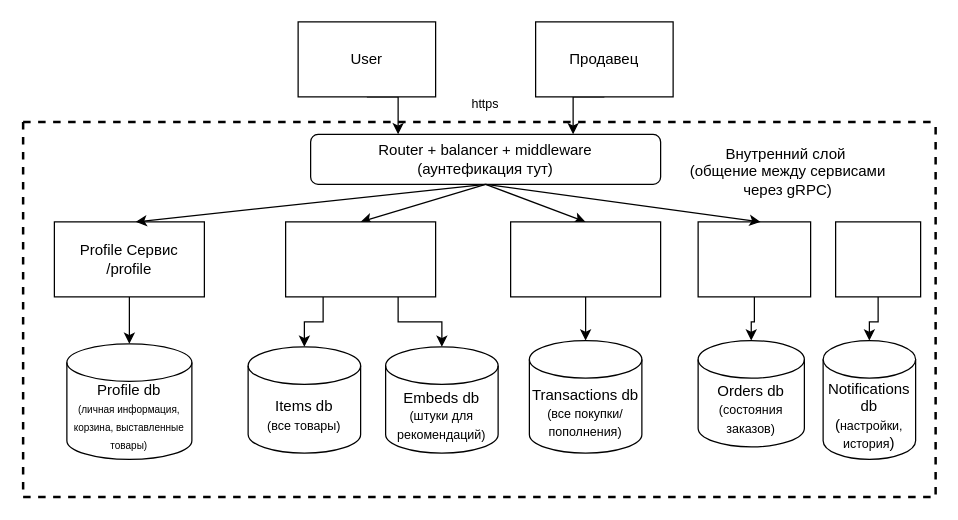
Some shapes in this 958 by 520 pixel diagram are drawn without their labels. The centre of each missing label's shape, as x and y in pixels:
"Items Сервис /items" belongs at (360,259).
"Notifications Сервис" belongs at (877,259).
"Orders Сервис /orders" belongs at (754,259).
"Transactions Сервис /transactions" belongs at (585,259).
